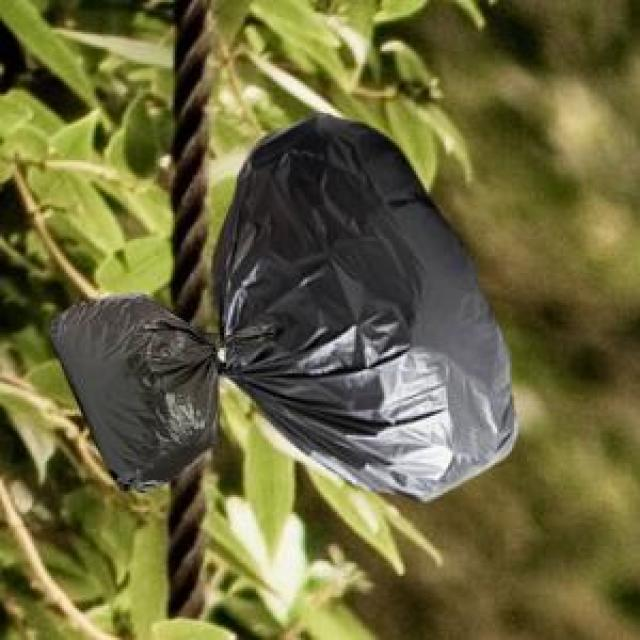miscellaneous trash: (209, 109, 514, 497), (45, 288, 282, 489)
